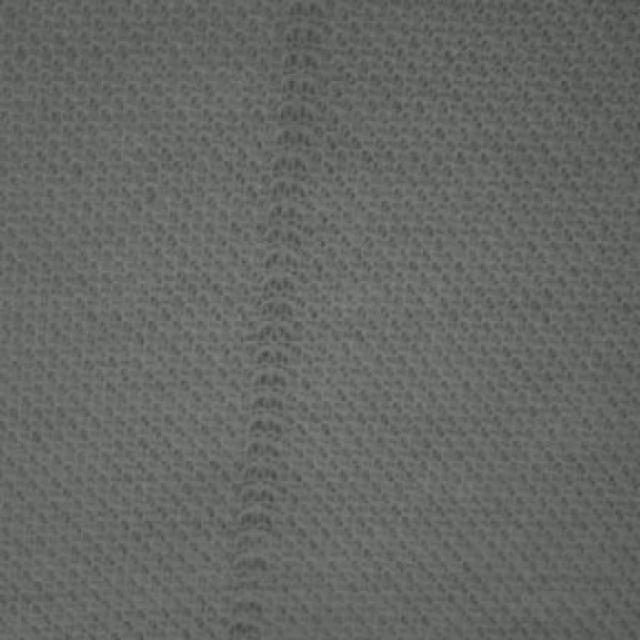Line: (223, 5, 322, 640)
